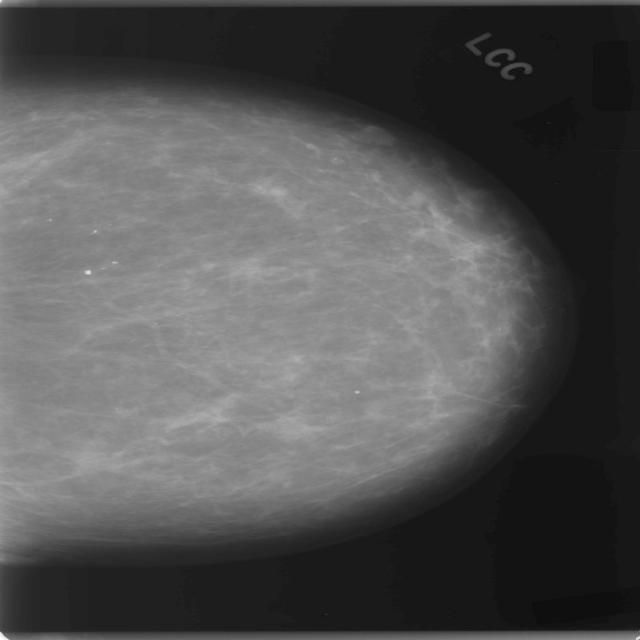tumour: (346, 123, 396, 148)
